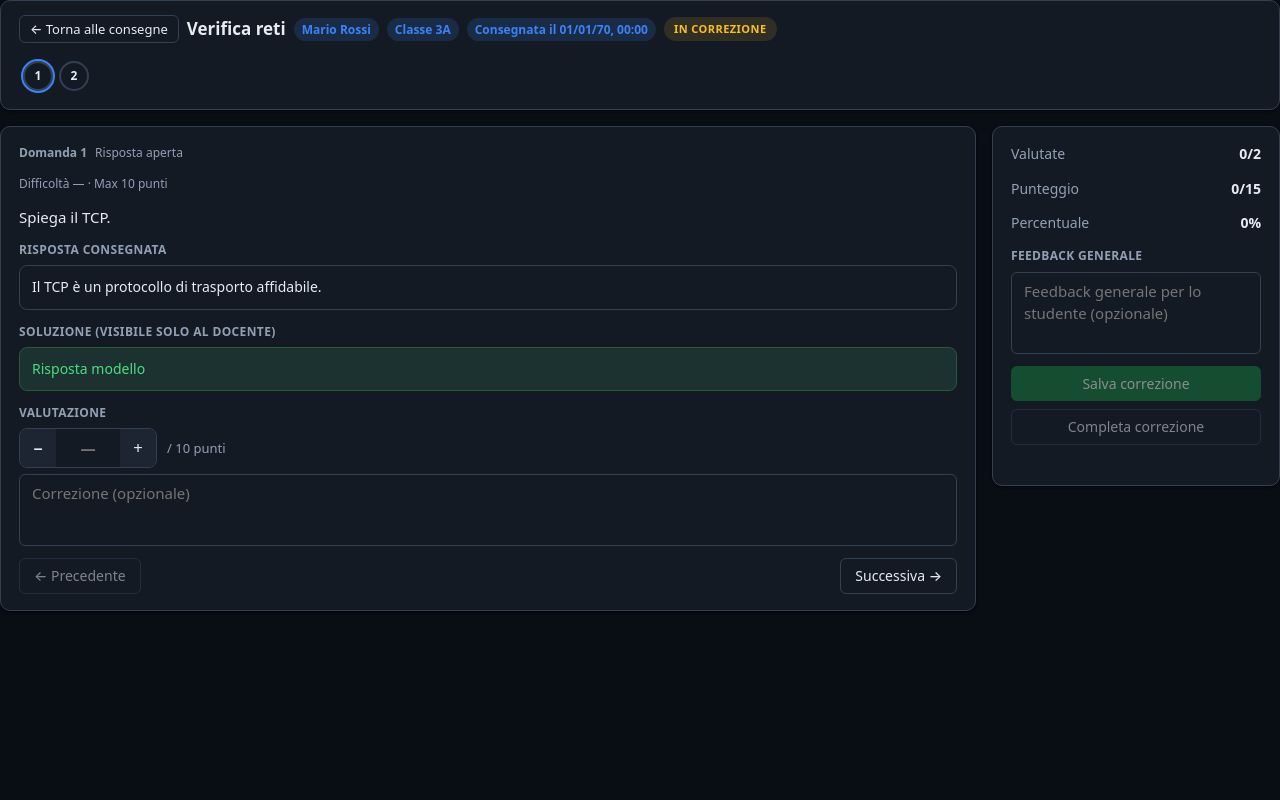
Test: CorrectionWorkspace — scoring input › accepts 0 as a valid, distinct-from-unevaluated score
Expected: the text "Spiega il TCP." is shown, x1=19 y1=207 x2=111 y2=227
Type "0" into the field named "Punteggio per la domanda 1".
click(88, 448); type("0")  # box x1=56 y1=429 x2=120 y2=467
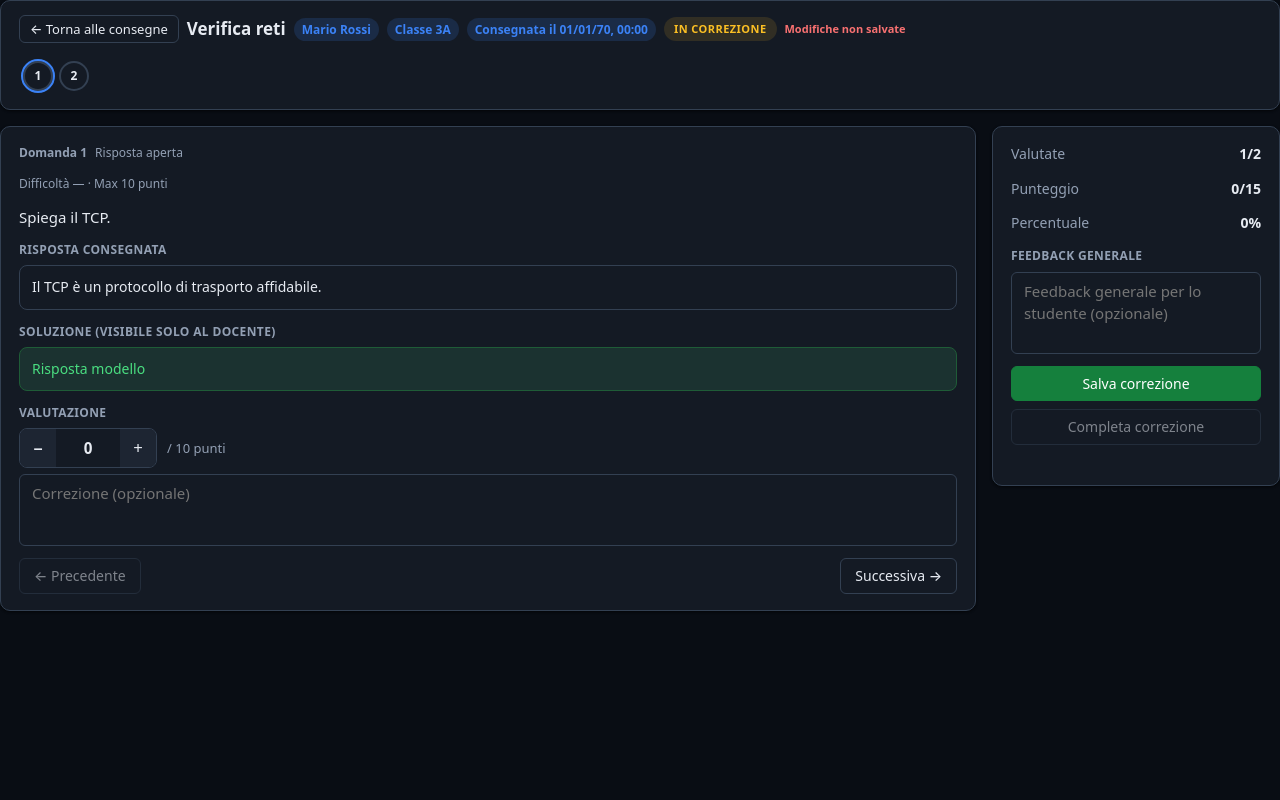
Expected: the button "Salva correzione" is enabled, x1=1011 y1=366 x2=1261 y2=401
